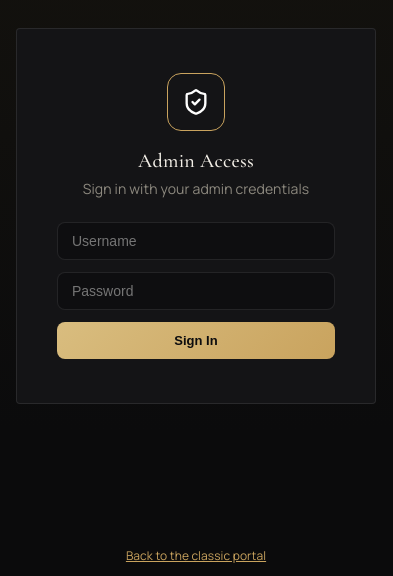
signing in with a password — the admin portal › says why, in the server’s words, when it is refused — and keeps what was typed
In the field labelled "Username": (196,241) [57,222,335,260], type "sara"
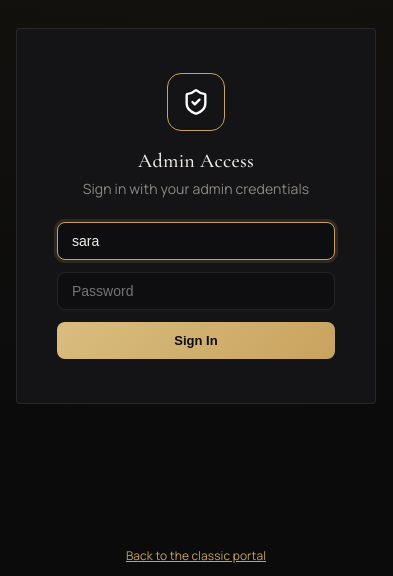
In the password field labelled "Password": (196,291) [57,272,335,310], type "pw-1"
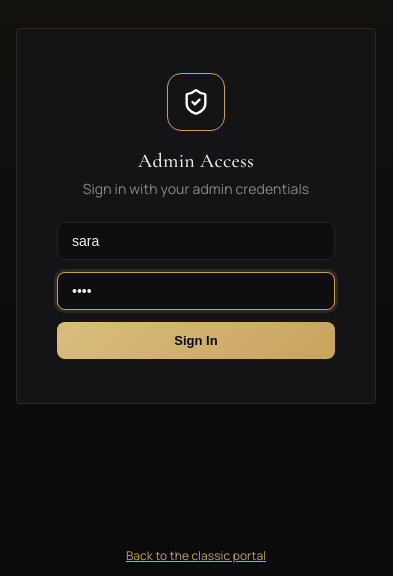
Click the button "Sign In": (196,340) [57,322,335,359]
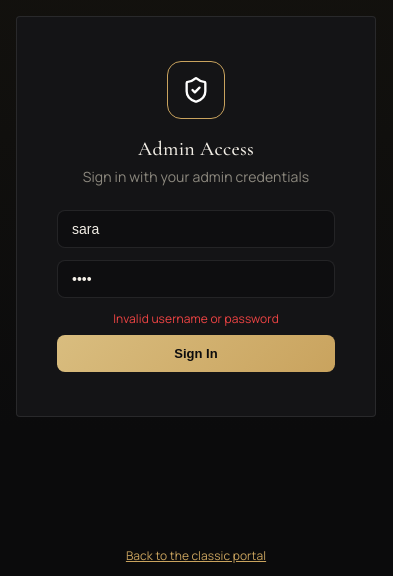
Now the message reads "Invalid username or password", box [113,310,279,326]
